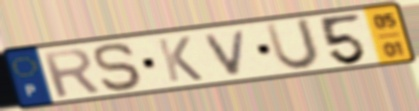5: (315, 11, 368, 66)
K: (154, 34, 206, 84)
R: (38, 46, 104, 100)
S: (92, 41, 147, 93)
U: (262, 16, 324, 73)
V: (201, 27, 250, 78)
